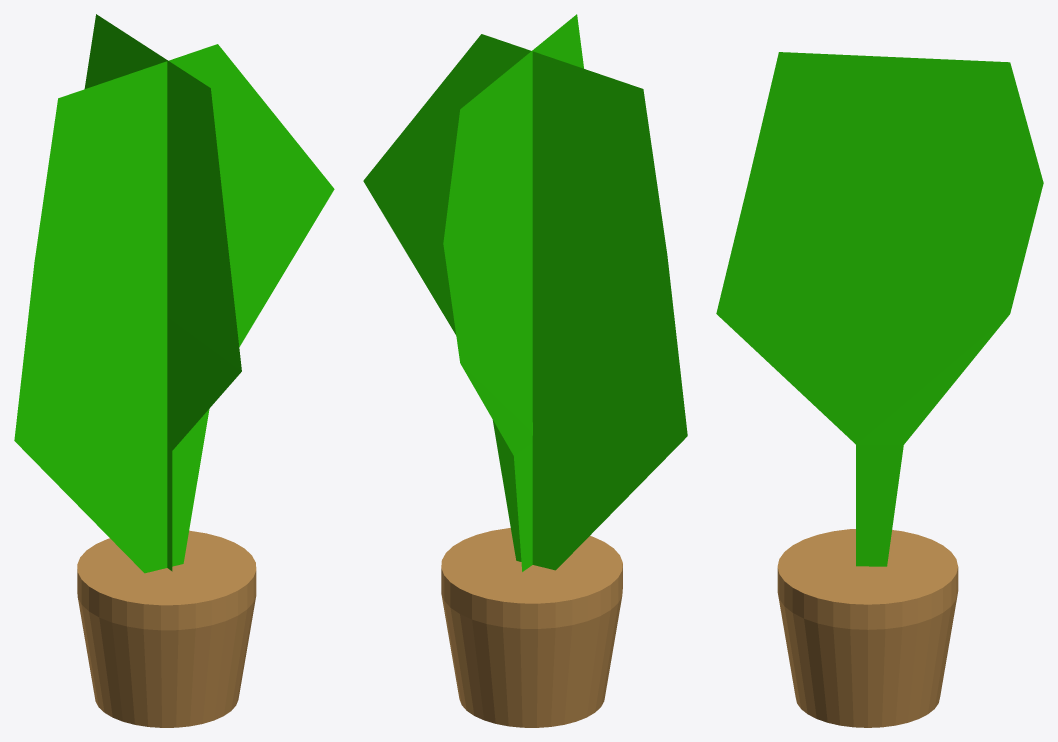
File: plant1.dae
The picture shows the model from 3 angles, left to right: view 1: azimuth 30°, elevation 25°; view 2: azimuth 150°, elevation 25°; view 3: azimuth 270°, elevation 25°; orthographic projection.
Parts seen in each view (by area): view 1: Plane, Cylinder, Plane.001; view 2: Plane, Plane.001, Cylinder; view 3: Plane.001, Cylinder.
Boxes of the visible parts, bbox=[...] form: Plane: bbox=[14, 44, 334, 573]; Cylinder: bbox=[77, 530, 256, 727]; Plane.001: bbox=[84, 14, 241, 571]; Plane: bbox=[363, 34, 687, 570]; Plane.001: bbox=[443, 14, 583, 571]; Cylinder: bbox=[441, 528, 622, 727]; Plane.001: bbox=[716, 52, 1043, 566]; Cylinder: bbox=[777, 529, 958, 727].
Bounding box in the file's own units: 0.6433 × 0.5665 × 1.23.
